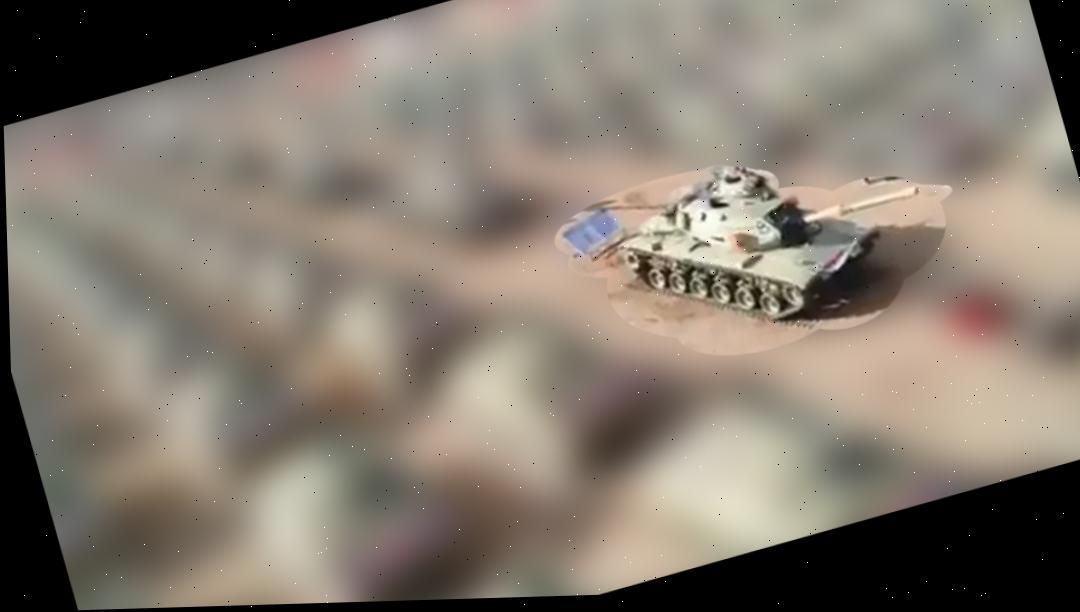tank: (587, 121, 905, 368)
